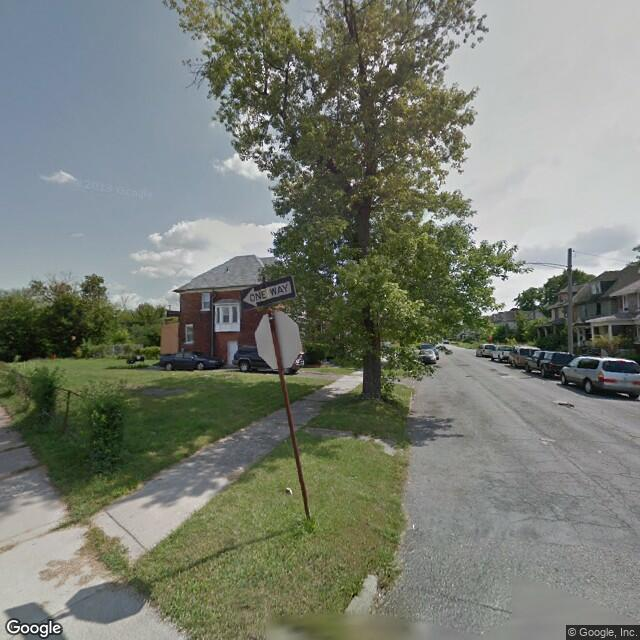litter: (283, 485, 294, 496), (409, 522, 418, 527)
